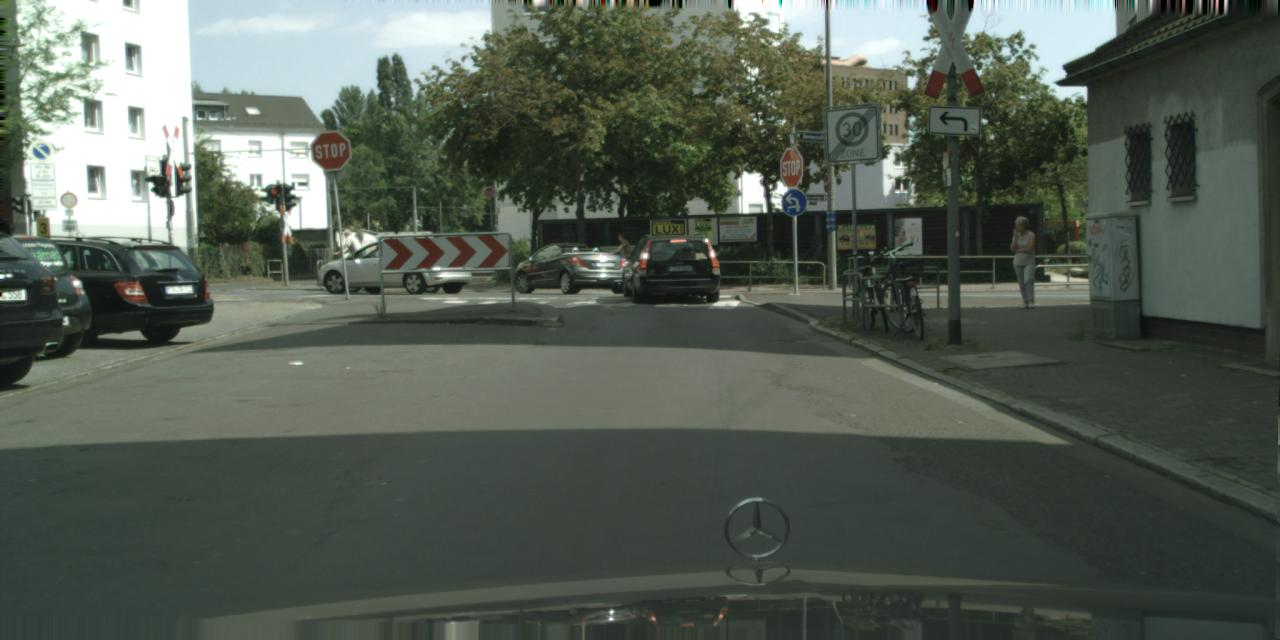ped: (1004, 215, 1042, 308), (341, 229, 360, 276), (615, 234, 630, 272)
